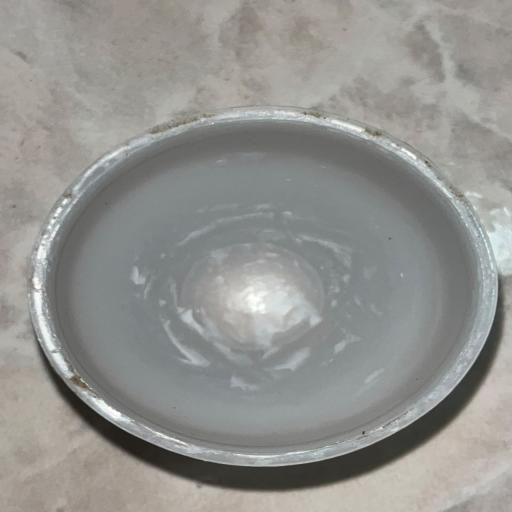PET: (5, 90, 505, 496)
